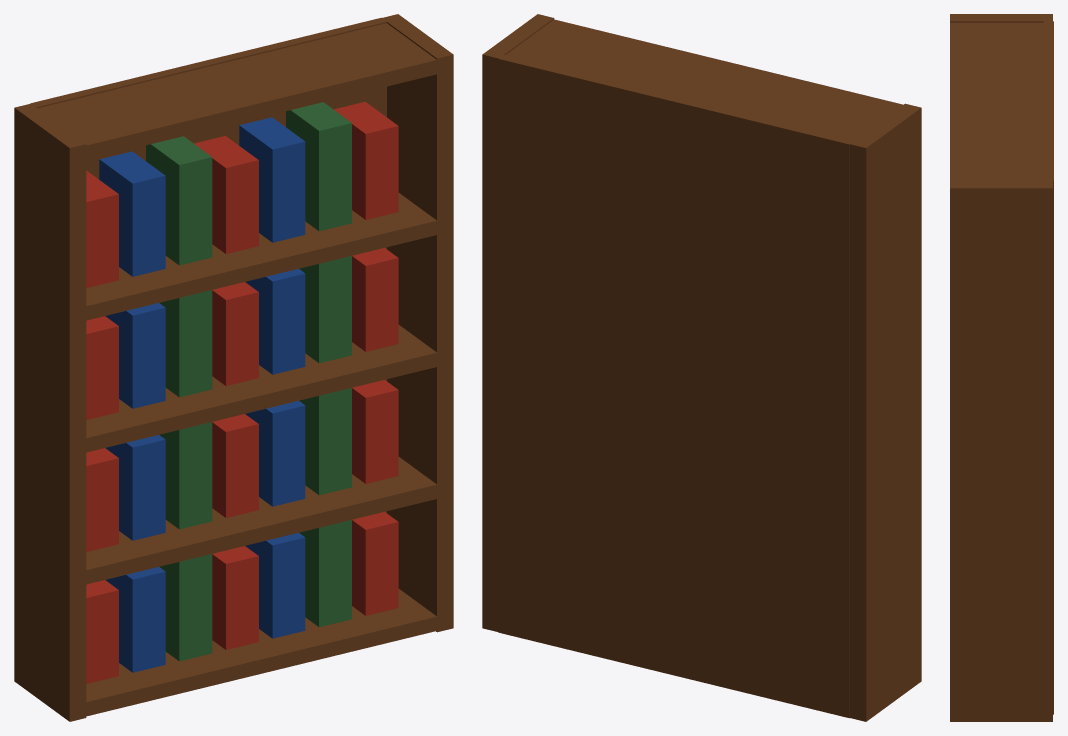
The model's file is bookshelf.glb.
The picture shows the model from 3 angles, left to right: view 1: azimuth 30°, elevation 25°; view 2: azimuth 150°, elevation 25°; view 3: azimuth 270°, elevation 25°; orthographic projection. The views are drawn at different scales.
Parts seen in each view (by area): view 1: Side, _MeshInstance3D_24, _MeshInstance3D_28, _MeshInstance3D_25, _MeshInstance3D_27, Shelf, _MeshInstance3D_26, _MeshInstance3D_51, _MeshInstance3D_54, _MeshInstance3D_50, _MeshInstance3D_53, _MeshInstance3D_55 (+24 smaller); view 2: Back, Side, _MeshInstance3D_28, _MeshInstance3D_24; view 3: _MeshInstance3D_24, _MeshInstance3D_28, Back, Side.
Boxes of the visible parts, <box> form: Side: <box>14,103,86,721</box>; _MeshInstance3D_24: <box>382,14,453,632</box>; _MeshInstance3D_28: <box>37,23,436,159</box>; _MeshInstance3D_25: <box>86,457,436,584</box>; _MeshInstance3D_27: <box>86,193,436,320</box>; Shelf: <box>86,589,436,716</box>; _MeshInstance3D_26: <box>86,325,436,452</box>; _MeshInstance3D_51: <box>146,136,212,265</box>; _MeshInstance3D_54: <box>286,102,351,231</box>; _MeshInstance3D_50: <box>99,151,165,276</box>; _MeshInstance3D_53: <box>239,117,305,242</box>; _MeshInstance3D_55: <box>334,101,398,219</box>; Back: <box>498,55,854,718</box>; Side: <box>849,103,921,721</box>; _MeshInstance3D_28: <box>505,19,903,140</box>; _MeshInstance3D_24: <box>482,14,554,631</box>; _MeshInstance3D_24: <box>950,180,1052,721</box>; _MeshInstance3D_28: <box>950,22,1043,180</box>; Back: <box>1043,21,1053,714</box>; Side: <box>950,14,1052,22</box>.
Bounding box in the file's own units: 1.4 × 2 × 0.3525.
